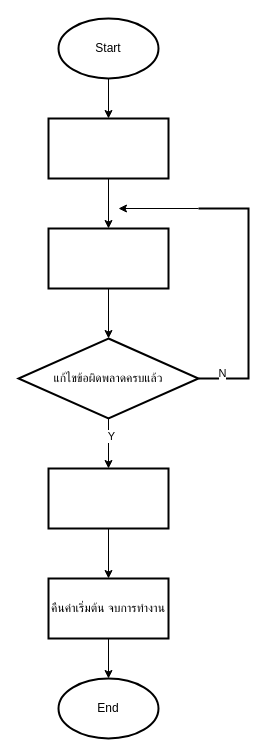
Image size: 266x756. Some labels were removed from this diagram. Each missing label, with the box of its shape:
นำโจทย์มาวิเคราะห์ความผิดพลาด: (47, 117, 169, 179)
แก้ไขข้อผิดพลาด: (47, 227, 169, 289)
แสดงผล: (47, 467, 169, 529)
